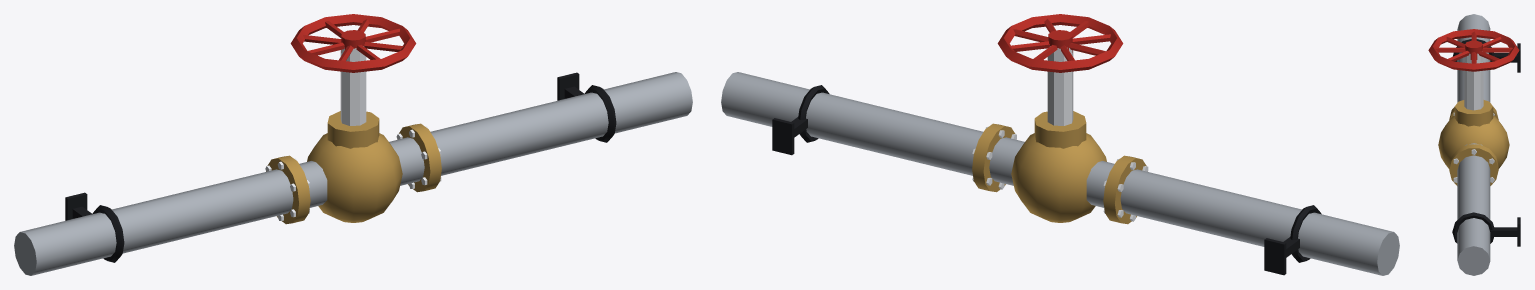
Rendered from pipe_valve_wheel.glb.
3 renders of one model, left to right at view 1: azimuth 30°, elevation 25°; view 2: azimuth 150°, elevation 25°; view 3: azimuth 270°, elevation 25°, orthographic. The views are drawn at different scales.
Parts seen in each view (by area): view 1: pipe_valve_wheel; view 2: pipe_valve_wheel; view 3: pipe_valve_wheel.
Boxes of the visible parts, x1,y1,x2,y2 form: pipe_valve_wheel: (14, 14, 692, 275); pipe_valve_wheel: (721, 14, 1399, 275); pipe_valve_wheel: (1428, 14, 1520, 275).
Bounding box in the file's own units: 2 × 0.534 × 0.336.
